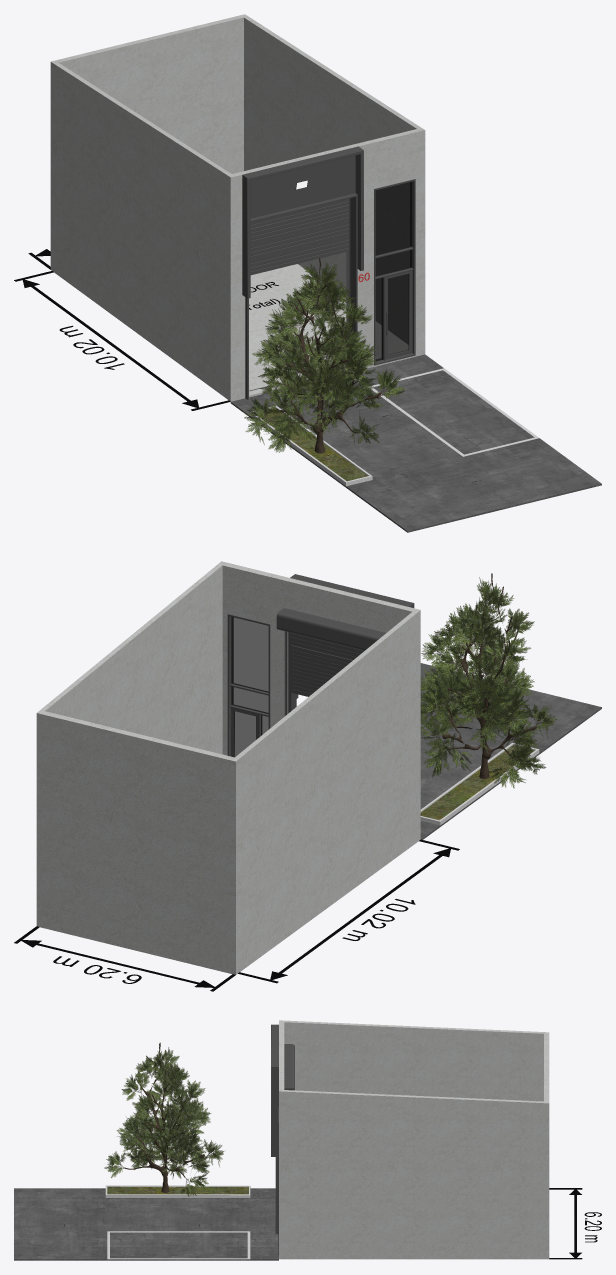
Rendered from Without_Mezzanine.glb.
3 views of the same model, one above another, from view 1: azimuth 30°, elevation 25°; view 2: azimuth 150°, elevation 25°; view 3: azimuth 270°, elevation 25° (orthographic). The views are drawn at different scales.
Visible parts, largest first — view 1: Object1746170105, Box2131647076, Box2131646542, Object1746168793, Object1834019083, Object1834019082, DIM_Line_001; view 2: Object1746170105, Object1746168793, Box2131646542, Box2131647076, Object1834019083, DIM_Line_001, DIM_Line_002; view 3: Object1746170105, Box2131647076, Object1746168793, Box2131646542, Object1834019083, Object1834019082, DIM_Line_002.
Boxes of the visible parts, x1,y1,x2,y2 form: Object1746170105: (50, 14, 425, 401); Box2131647076: (230, 354, 601, 532); Box2131646542: (242, 146, 415, 399); Object1746168793: (244, 258, 404, 453); Object1834019083: (249, 405, 372, 486); Object1834019082: (368, 368, 539, 456); DIM_Line_001: (14, 271, 230, 410); Object1746170105: (36, 561, 420, 974); Object1746168793: (420, 573, 557, 788); Box2131646542: (227, 574, 414, 757); Box2131647076: (420, 663, 601, 839); Object1834019083: (420, 742, 539, 825); DIM_Line_001: (238, 839, 459, 983); DIM_Line_002: (14, 926, 235, 991); Object1746170105: (279, 1020, 549, 1259); Box2131647076: (14, 1188, 278, 1260); Object1746168793: (104, 1042, 224, 1196); Box2131646542: (271, 1024, 294, 1254); Object1834019083: (105, 1185, 250, 1197); Object1834019082: (107, 1231, 250, 1259); DIM_Line_002: (549, 1188, 582, 1259).
Size of the model in its own units: 8.33 by 7.08 by 22.19.
Materials: 18 (8 with a texture image).
